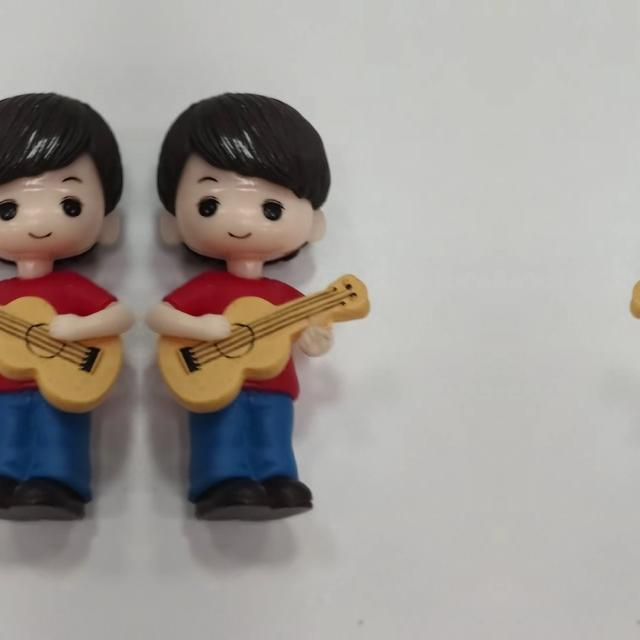man cloth: (163, 274, 329, 398), (0, 273, 117, 398)
man head: (150, 83, 336, 267), (0, 83, 130, 267)
trousers: (176, 382, 330, 538), (0, 382, 104, 538)
